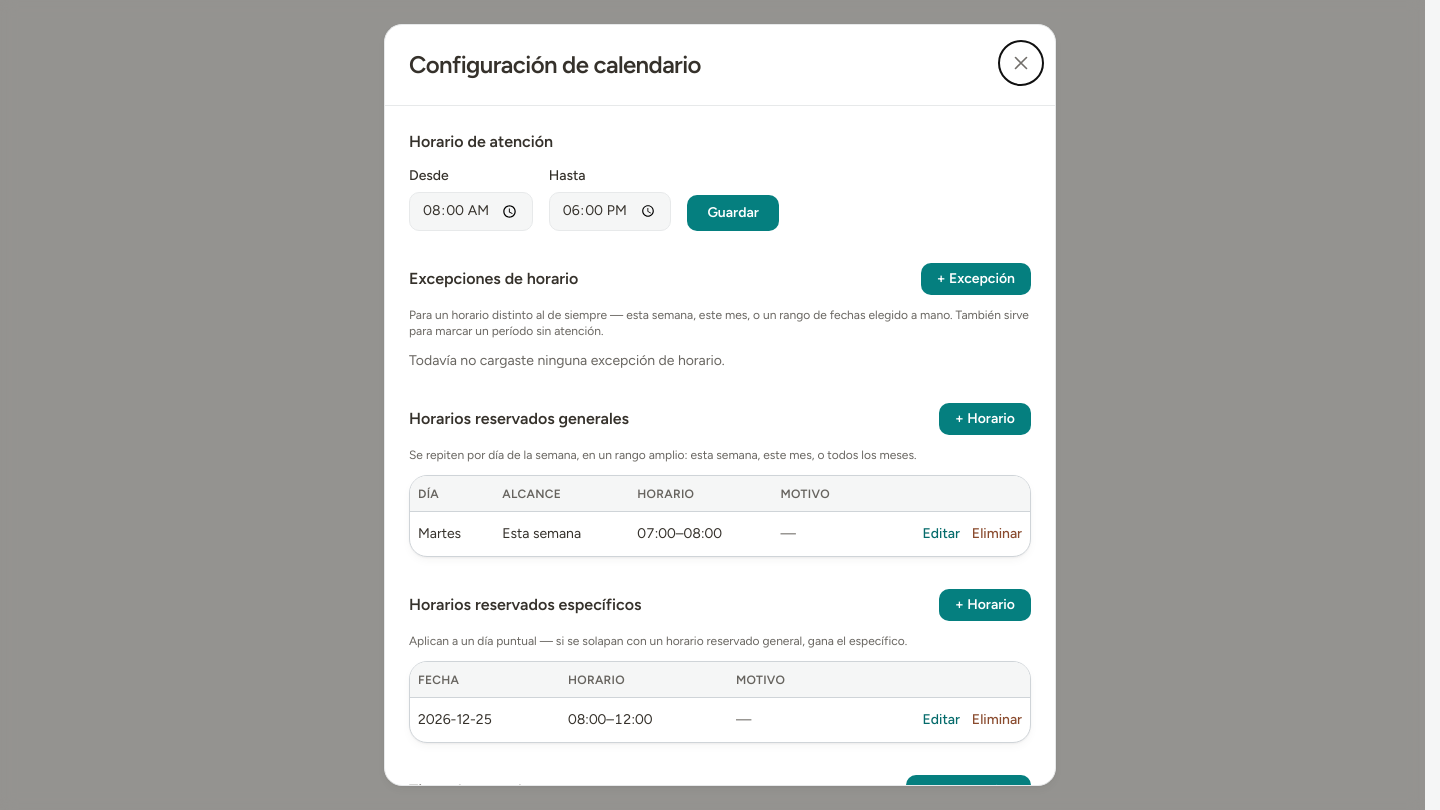
Scenario: ConfiguracionCalendarioModal › no guarda si la hora de fin no es posterior a la de inicio
The image size is (1440, 810).
Step 1. Replace the text in the time field labelled "Desde" with "18:00" → (471, 211), box [409,192,533,231]
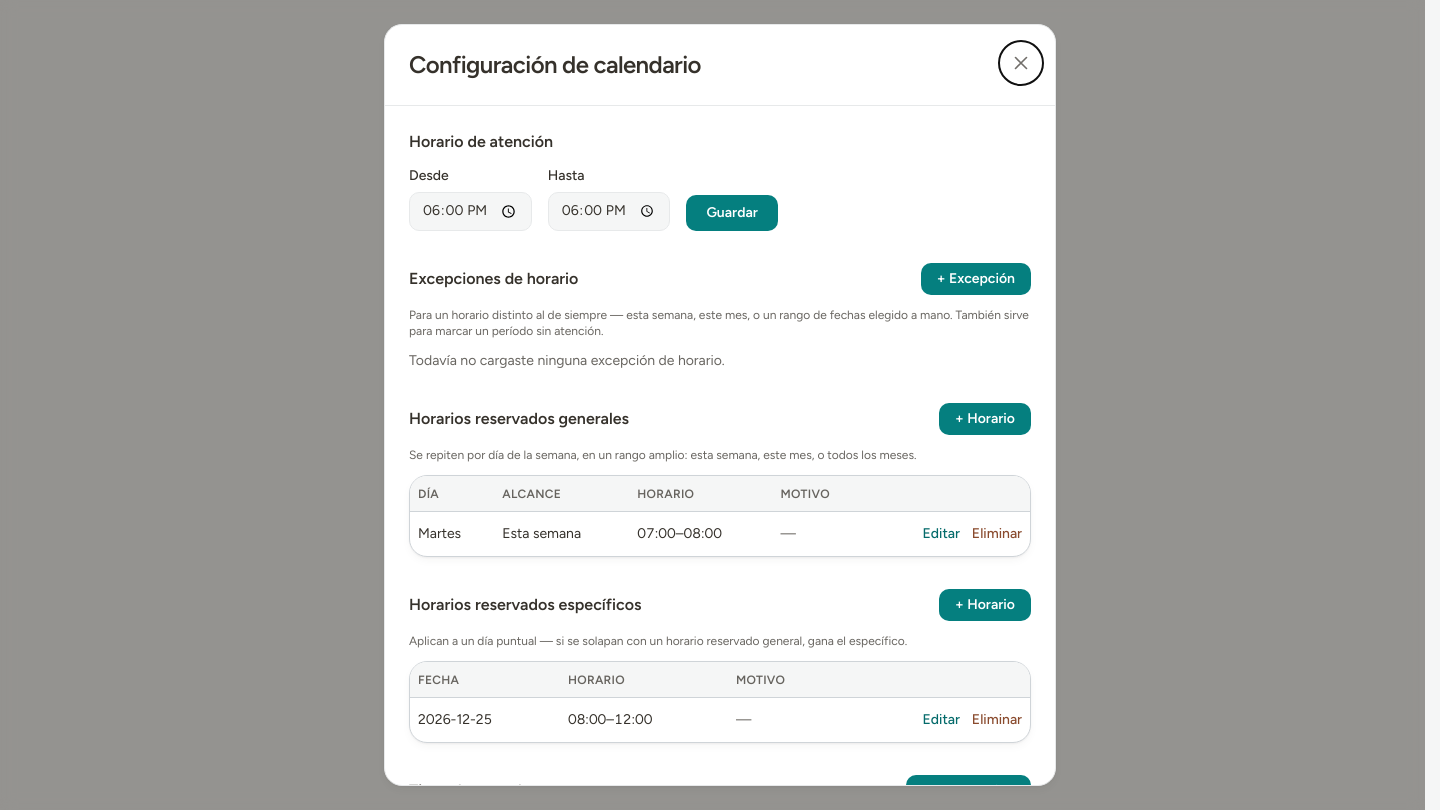
Step 2. Replace the text in the time field labelled "Hasta" with "08:00" → (609, 211), box [548,192,670,231]
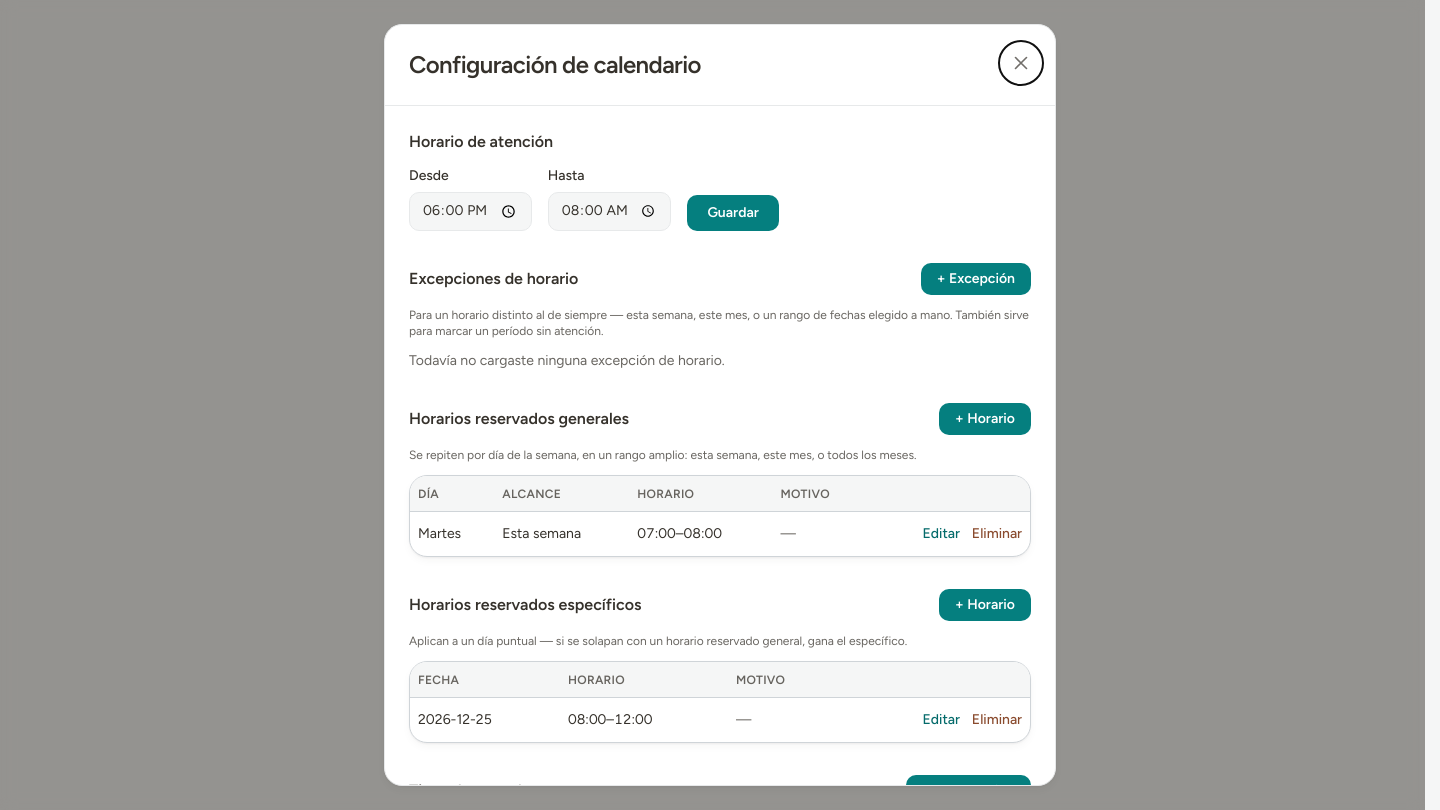
Step 3. Click the button "Guardar" → (733, 213), box [687,195,779,231]
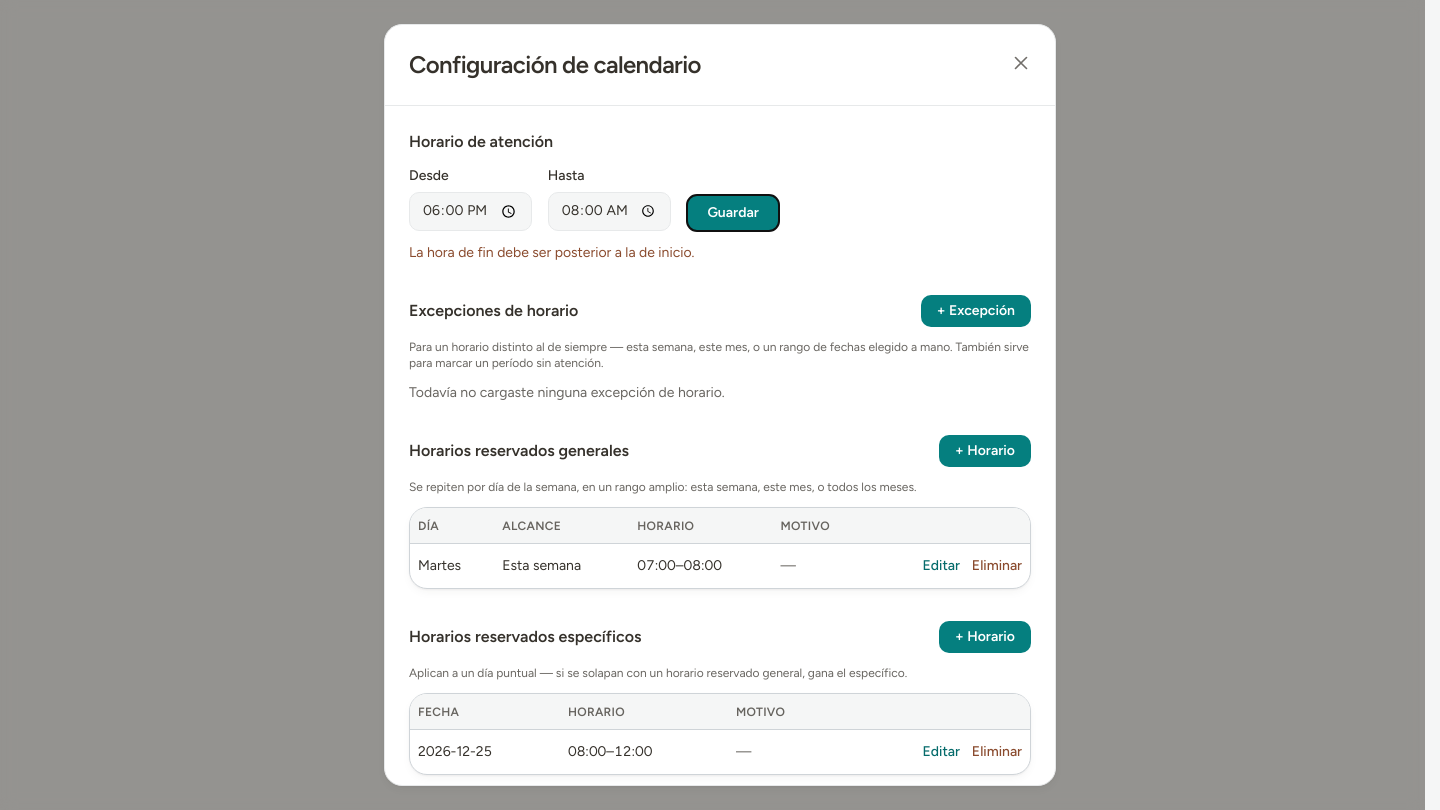
expect the message reads "La hora de fin debe ser posterior a la de inicio.": met, box [409,244,694,261]
